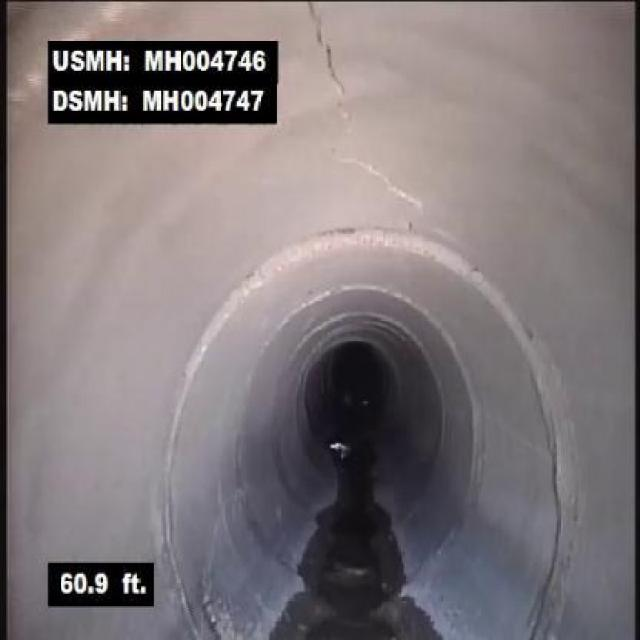Crack: (303, 1, 357, 150), (343, 152, 431, 223)
Joint offset: (238, 229, 462, 269), (469, 262, 531, 338)
